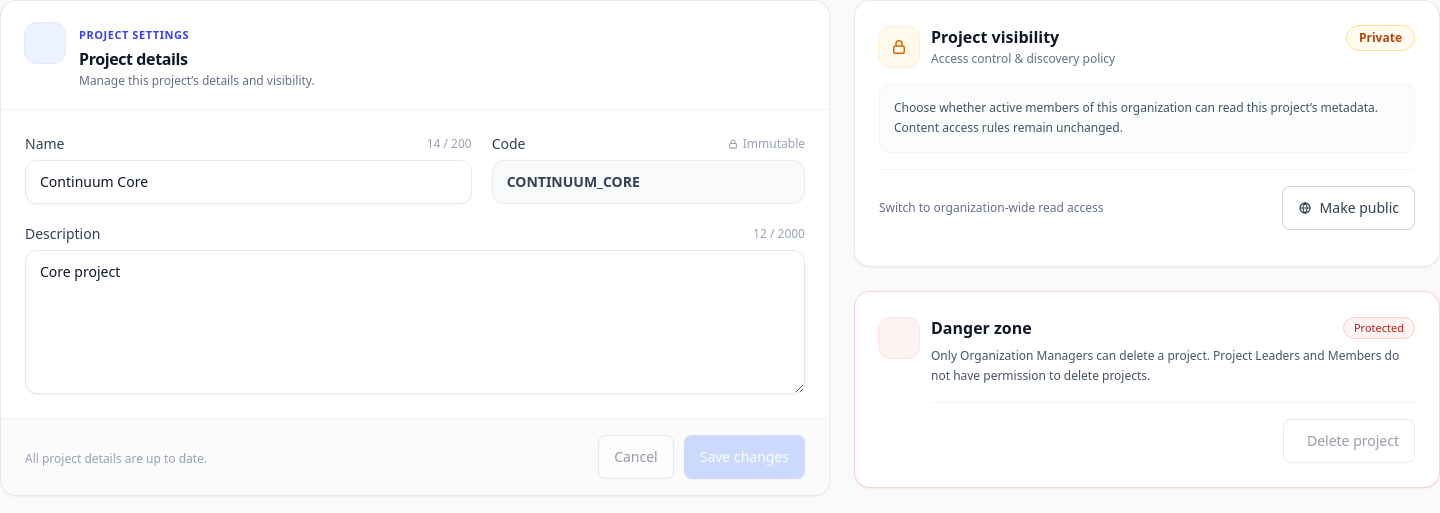
Test: sends null when clearing the description and reports a denied mutation
Clear the text box labelled "Description": [415, 322] box [25, 250, 805, 394]
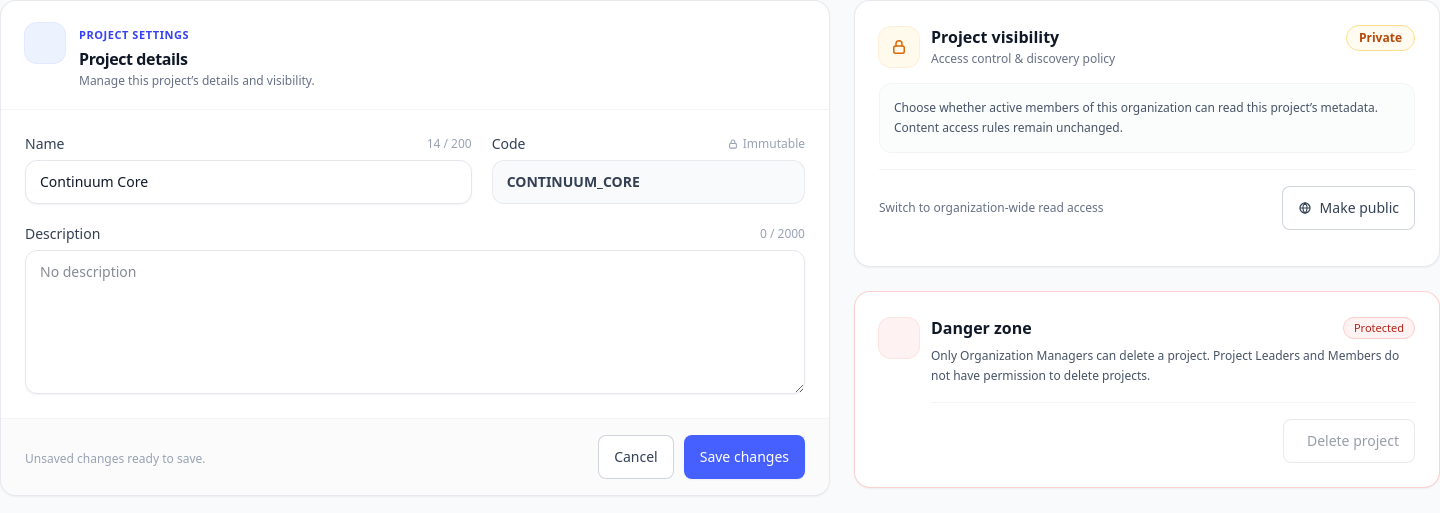
Click the button "Save changes": [744, 457] box [684, 435, 805, 479]
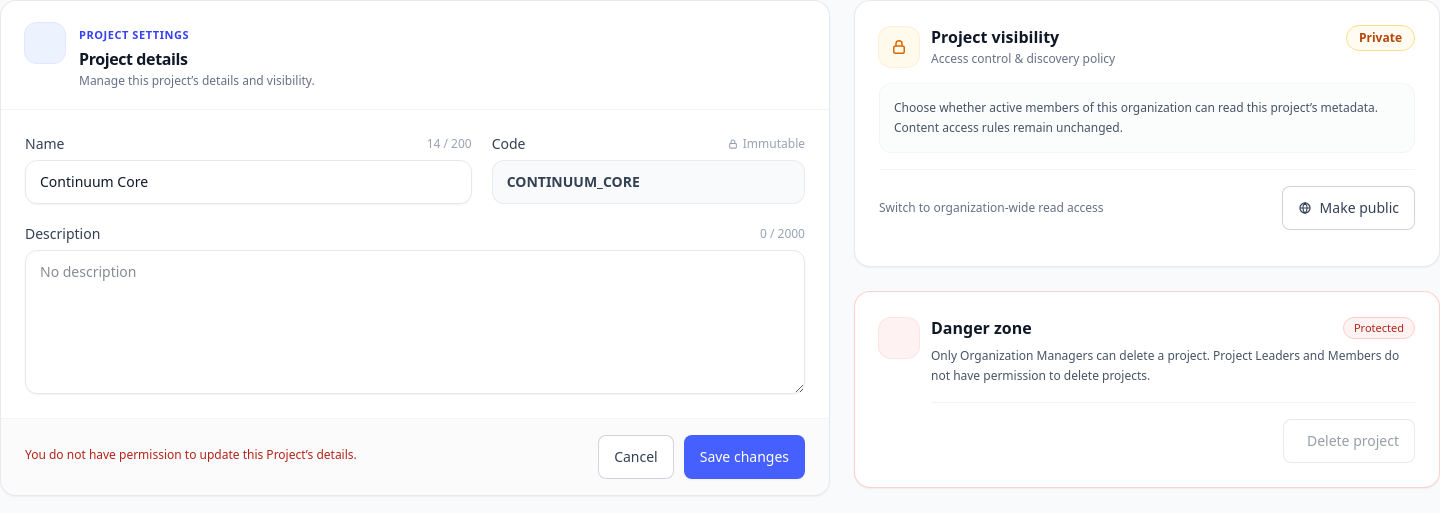
Result: the message shows "do not have permission" at [25, 446, 357, 463]
